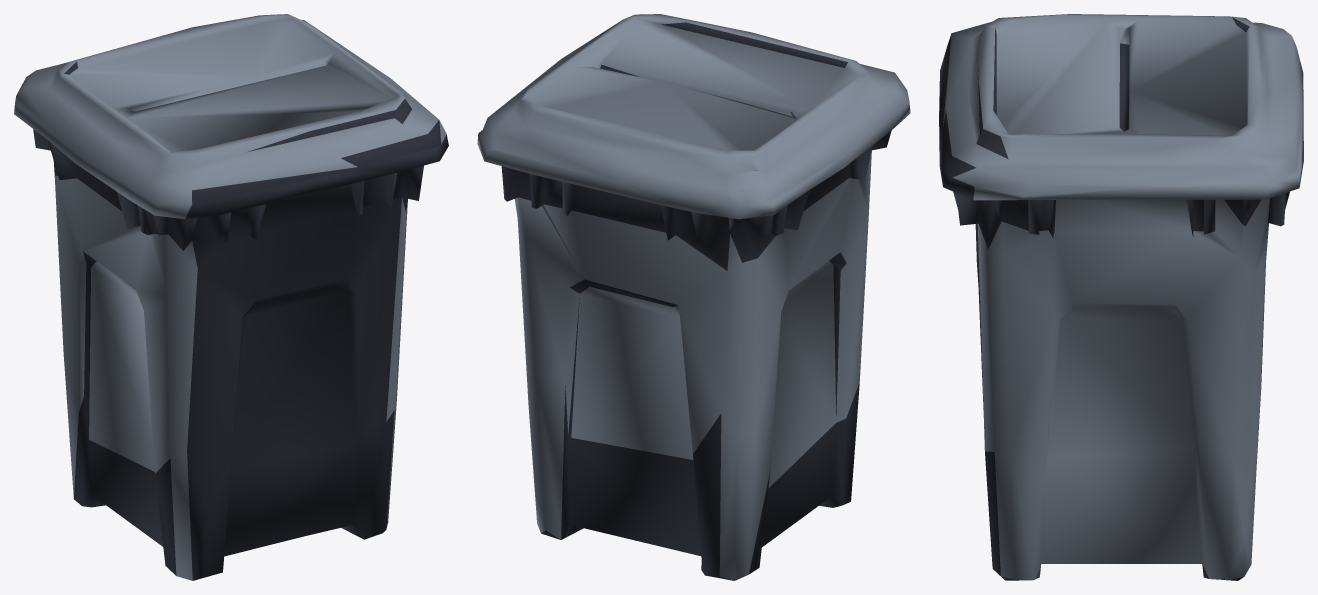
File: SM_prop_trash_bin.glb
3 views of the same model, side by side, from view 1: azimuth 30°, elevation 25°; view 2: azimuth 150°, elevation 25°; view 3: azimuth 270°, elevation 25° (orthographic). The views are drawn at different scales.
Parts seen in each view (by area): view 1: SM_prop_trash_bin; view 2: SM_prop_trash_bin; view 3: SM_prop_trash_bin.
Part boxes in pixels (left/top/right/bottom): SM_prop_trash_bin: left=14, top=14, right=448, bottom=580; SM_prop_trash_bin: left=477, top=14, right=910, bottom=580; SM_prop_trash_bin: left=939, top=14, right=1303, bottom=580.
Size of the model in its own units: 0.5865 by 0.8 by 0.5794.
Materials: 1 (1 with a texture image).
